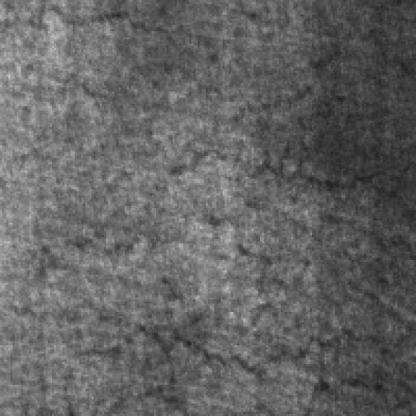crazing: (56, 276, 416, 375), (177, 169, 416, 266)
